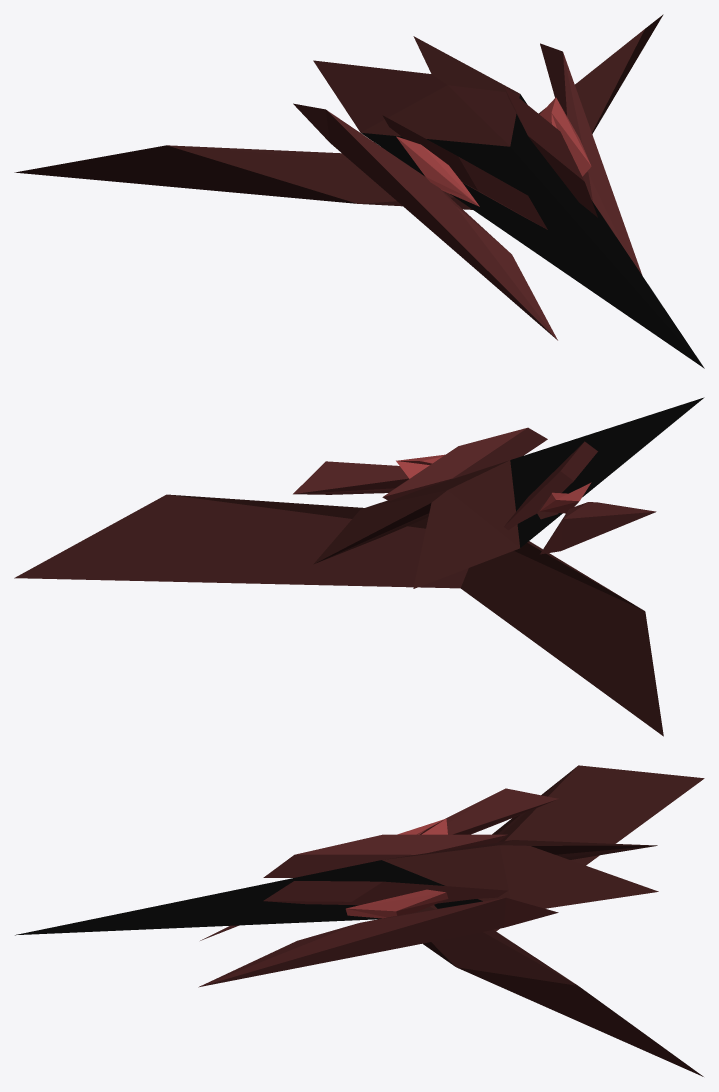
3 views of the same model, one above another, from view 1: azimuth 30°, elevation 25°; view 2: azimuth 150°, elevation 25°; view 3: azimuth 270°, elevation 25° (orthographic). The views are drawn at different scales.
Parts seen in each view (by area): view 1: LowPolySpaceship08; view 2: LowPolySpaceship08; view 3: LowPolySpaceship08.
Boxes of the visible parts, bbox=[...] form: LowPolySpaceship08: bbox=[14, 14, 704, 368]; LowPolySpaceship08: bbox=[14, 397, 704, 736]; LowPolySpaceship08: bbox=[15, 765, 704, 1076].
Size of the model in its own units: 4.5 by 0.8524 by 4.39.
